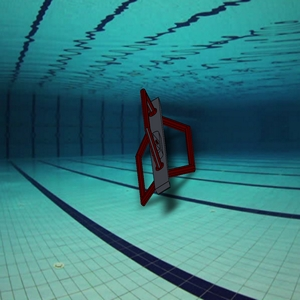submarine: (107, 85, 209, 213)
